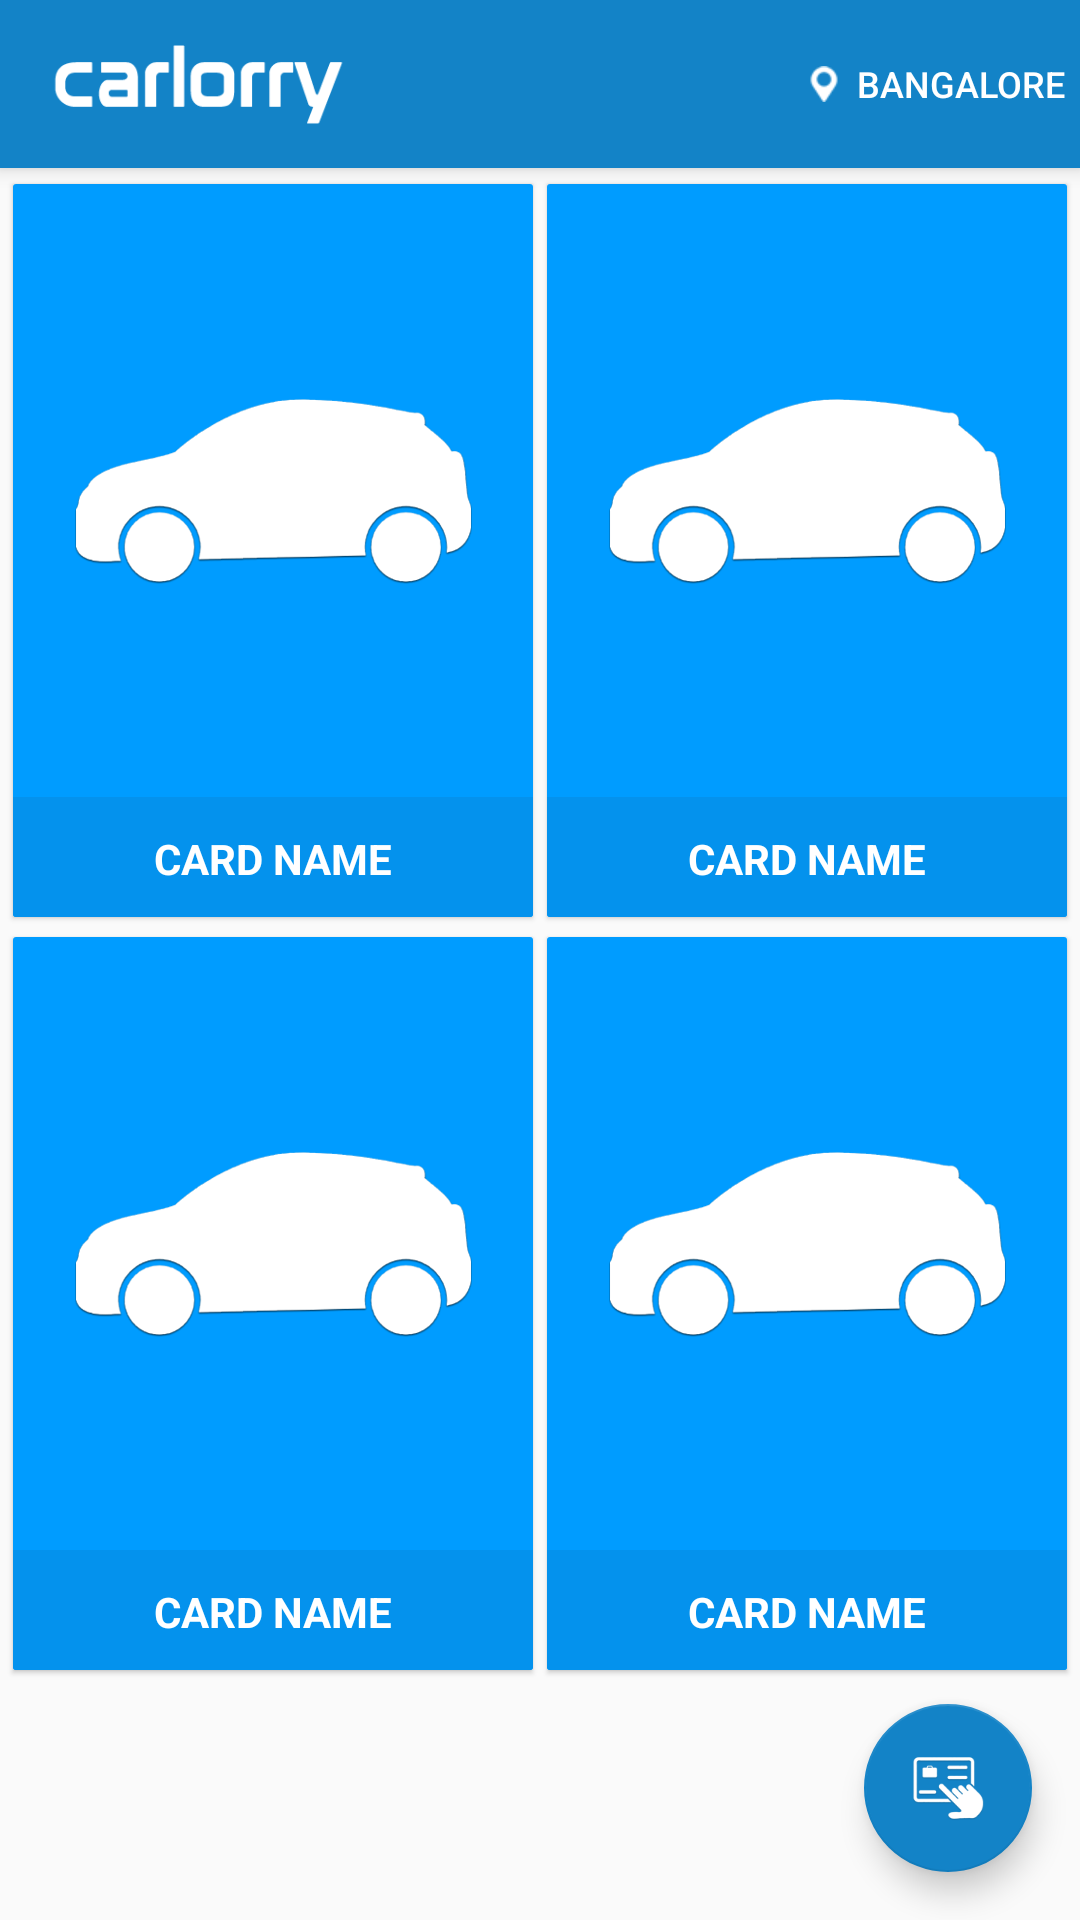

Icons on this 1080px x 1920px Android screen, each with the point to tap as [x,y]:
booking: [948,1788]
